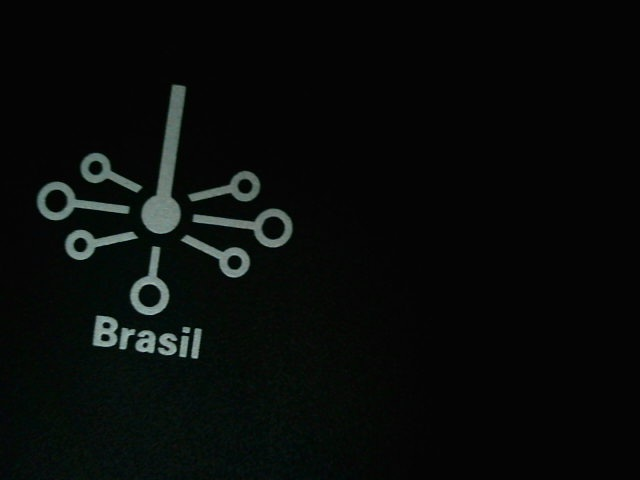BG_Brasil: (25, 69, 300, 373)
